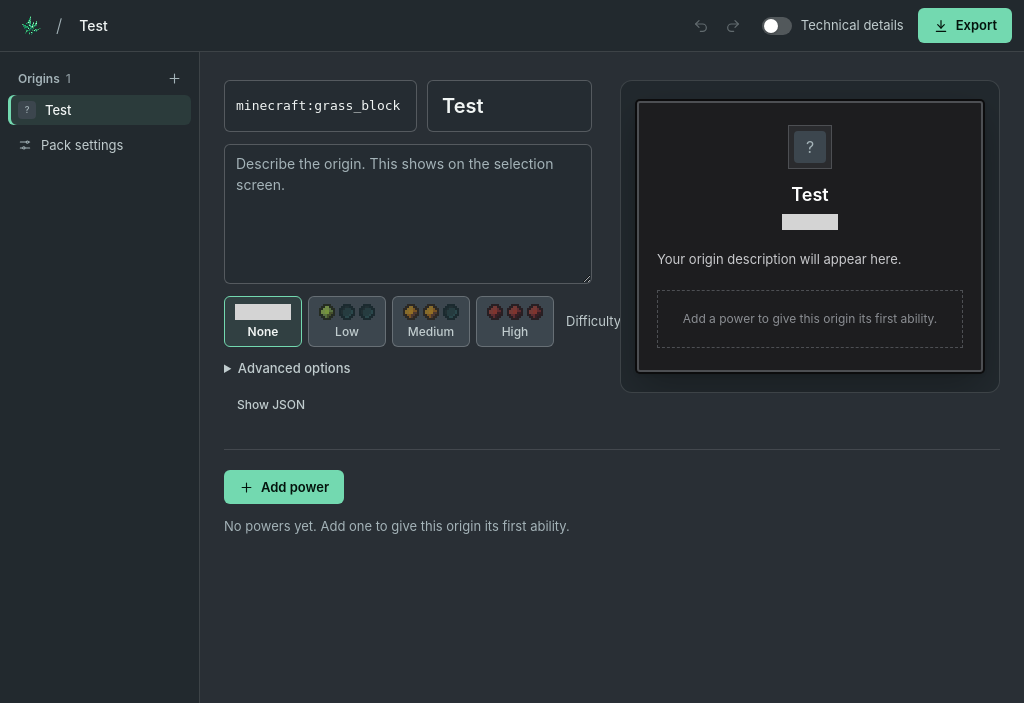
Test: workshop › grants a new cooldown to the origin and shows it inside the power that made it
Click the button "Add power": (284, 487) [224,470,344,504]
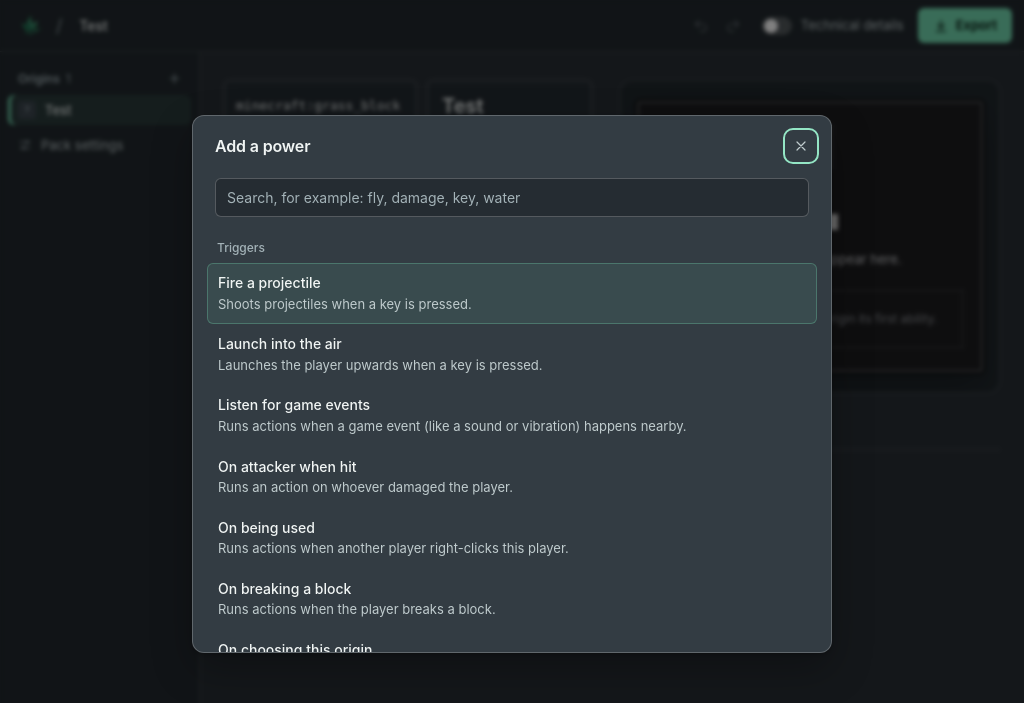
In the dropdown: (512, 198) [215,178,809,217], type "use a key"
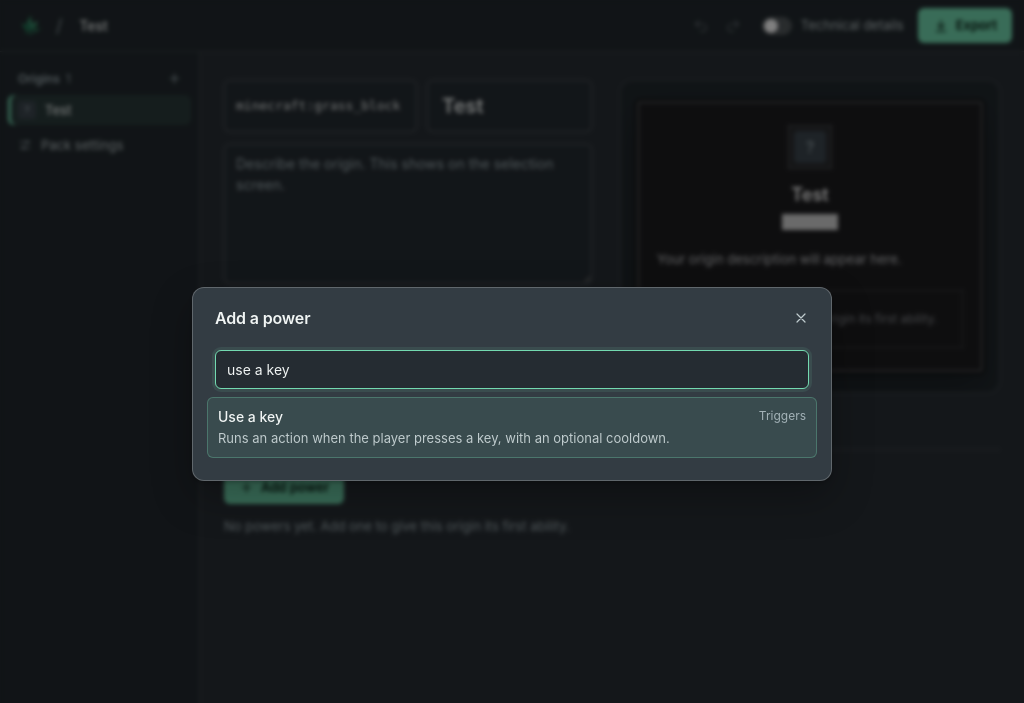
Click the option "Use a key": (512, 428) [207,397,817,458]
(page scrolled)
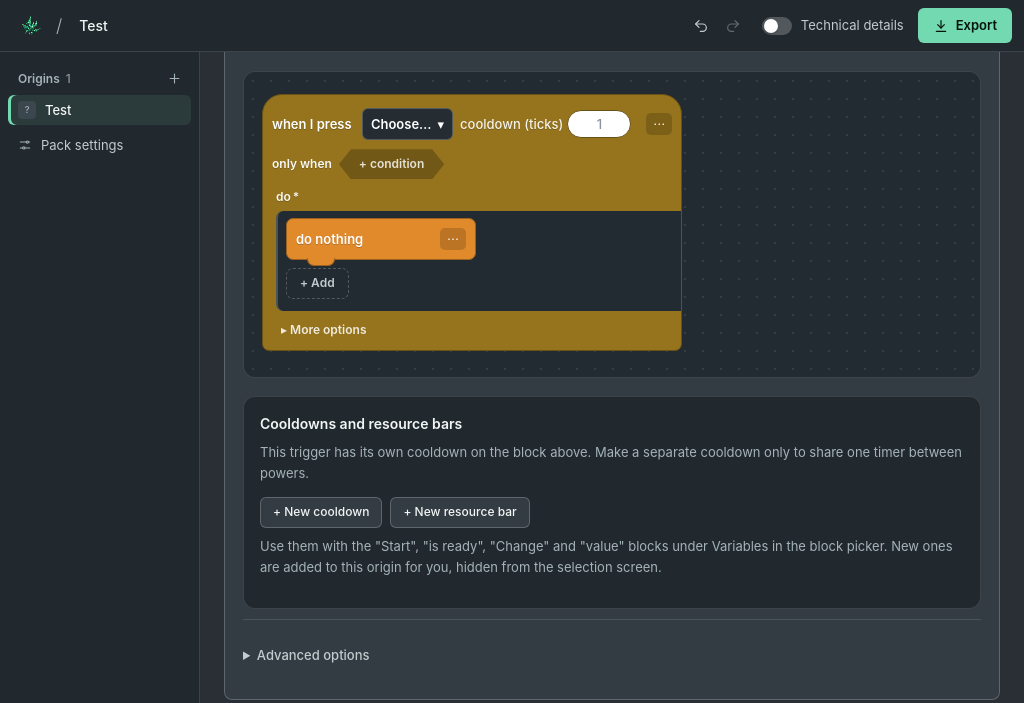
Click the button "+ New cooldown": (321, 513) [260,498,382,528]
(page scrolled)
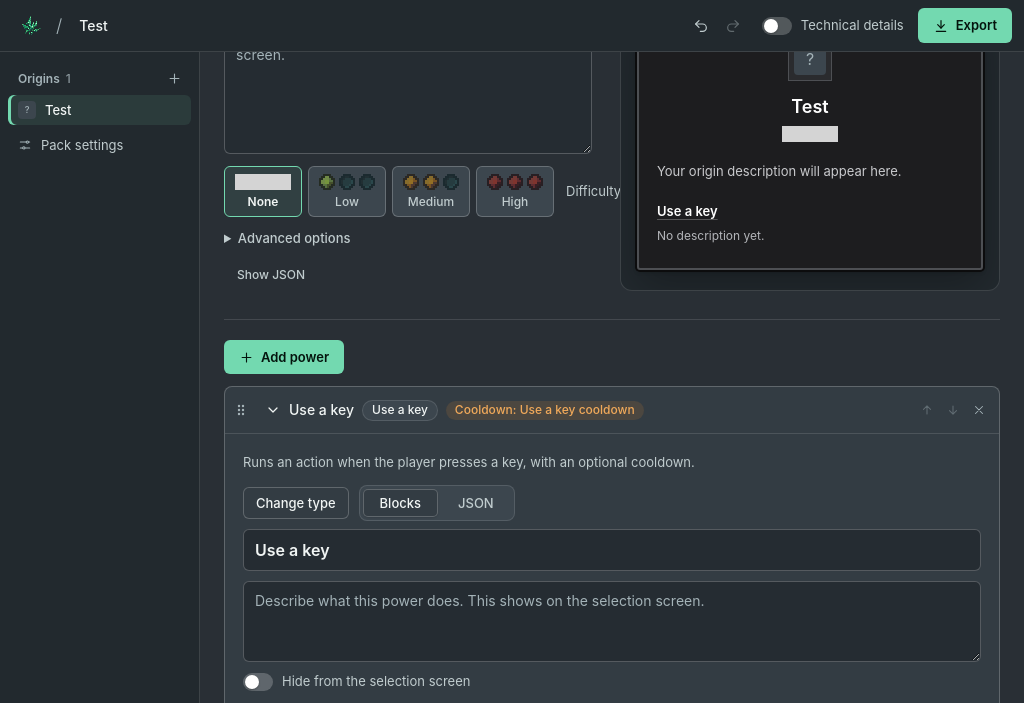
Expected: the text "Cooldown: Use a key cooldown" is shown, [446,401,644,420]
Click the button named "Delete Use a key": (979, 410) [967,398,991,422]
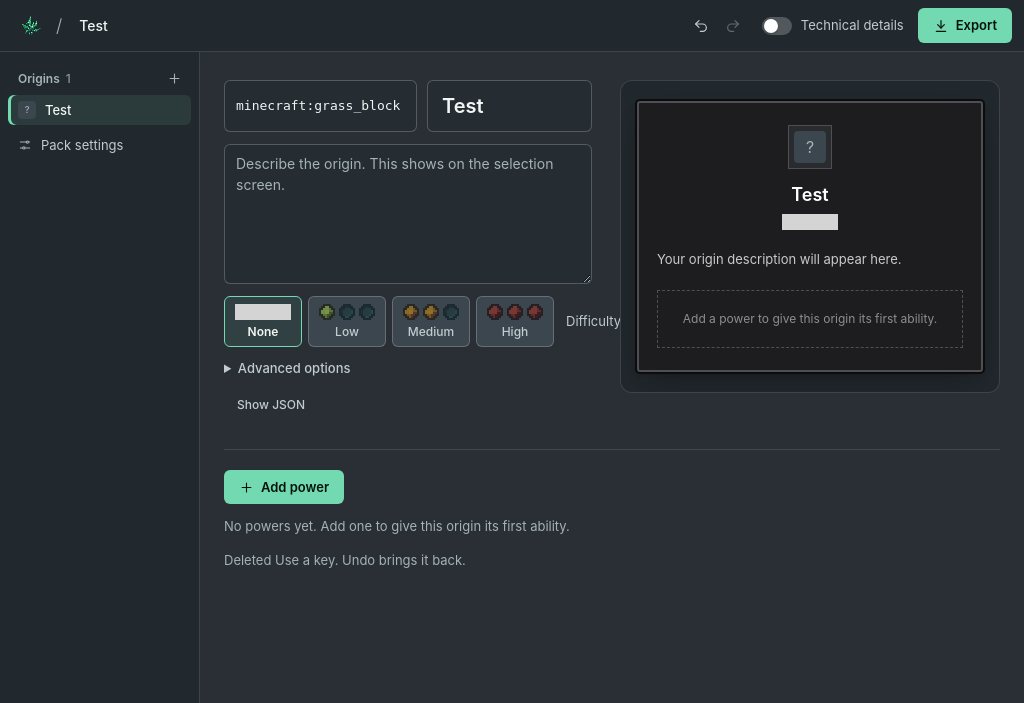
Click the button named "Undo": (701, 26) [686,10,716,40]
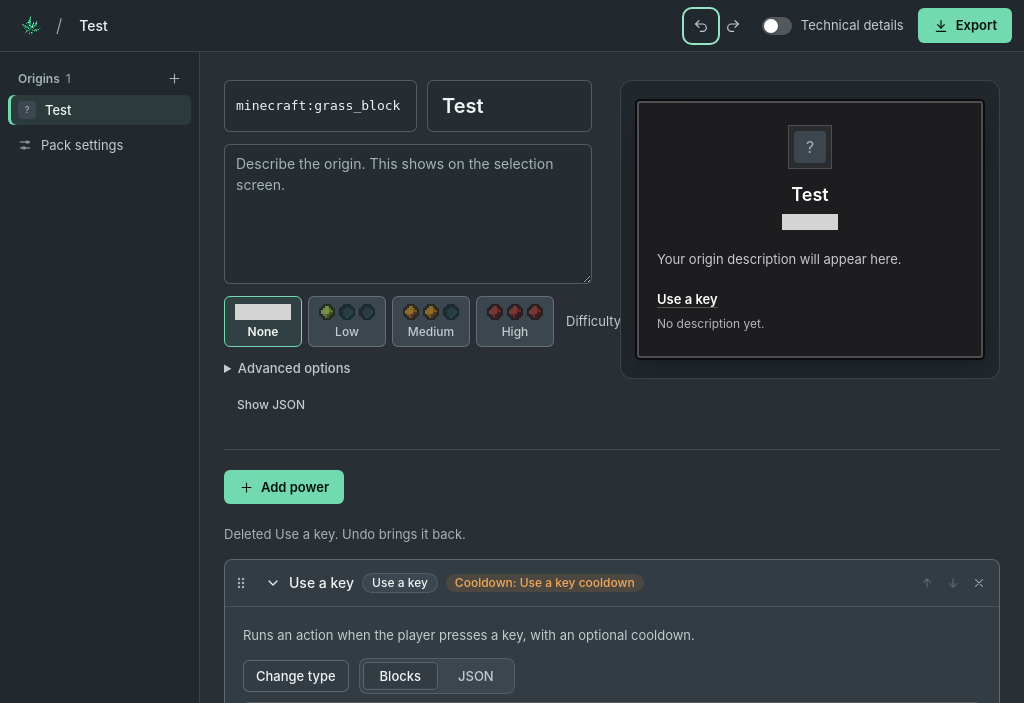
Expected: the text "Cooldown: Use a key cooldown" is shown, [446,574,644,592]
